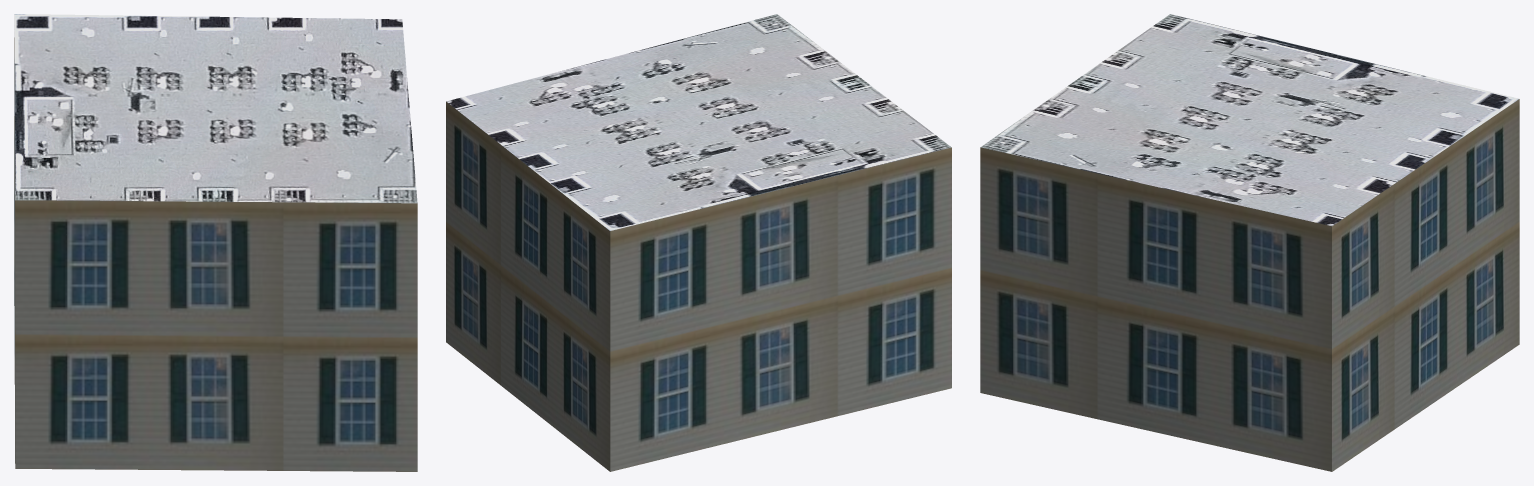
The model's file is ResTex__2539.fbx.
The picture shows the model from 3 angles, left to right: view 1: azimuth 30°, elevation 25°; view 2: azimuth 150°, elevation 25°; view 3: azimuth 270°, elevation 25°; orthographic projection. The views are drawn at different scales.
Parts seen in each view (by area): view 1: CityEngineMaterial_7_m, CityEngineMaterial_8_m; view 2: CityEngineMaterial_7_m, CityEngineMaterial_8_m; view 3: CityEngineMaterial_7_m, CityEngineMaterial_8_m.
Part boxes in pixels (x1=…): CityEngineMaterial_7_m: x1=14, y1=37, x2=417, y2=471; CityEngineMaterial_8_m: x1=14, y1=14, x2=417, y2=203; CityEngineMaterial_7_m: x1=446, y1=101, x2=951, y2=471; CityEngineMaterial_8_m: x1=446, y1=14, x2=951, y2=230; CityEngineMaterial_7_m: x1=980, y1=99, x2=1519, y2=471; CityEngineMaterial_8_m: x1=981, y1=14, x2=1518, y2=225.
Size of the model in its own units: 11.11 by 6 by 11.93.
2 materials, 2 textured.
